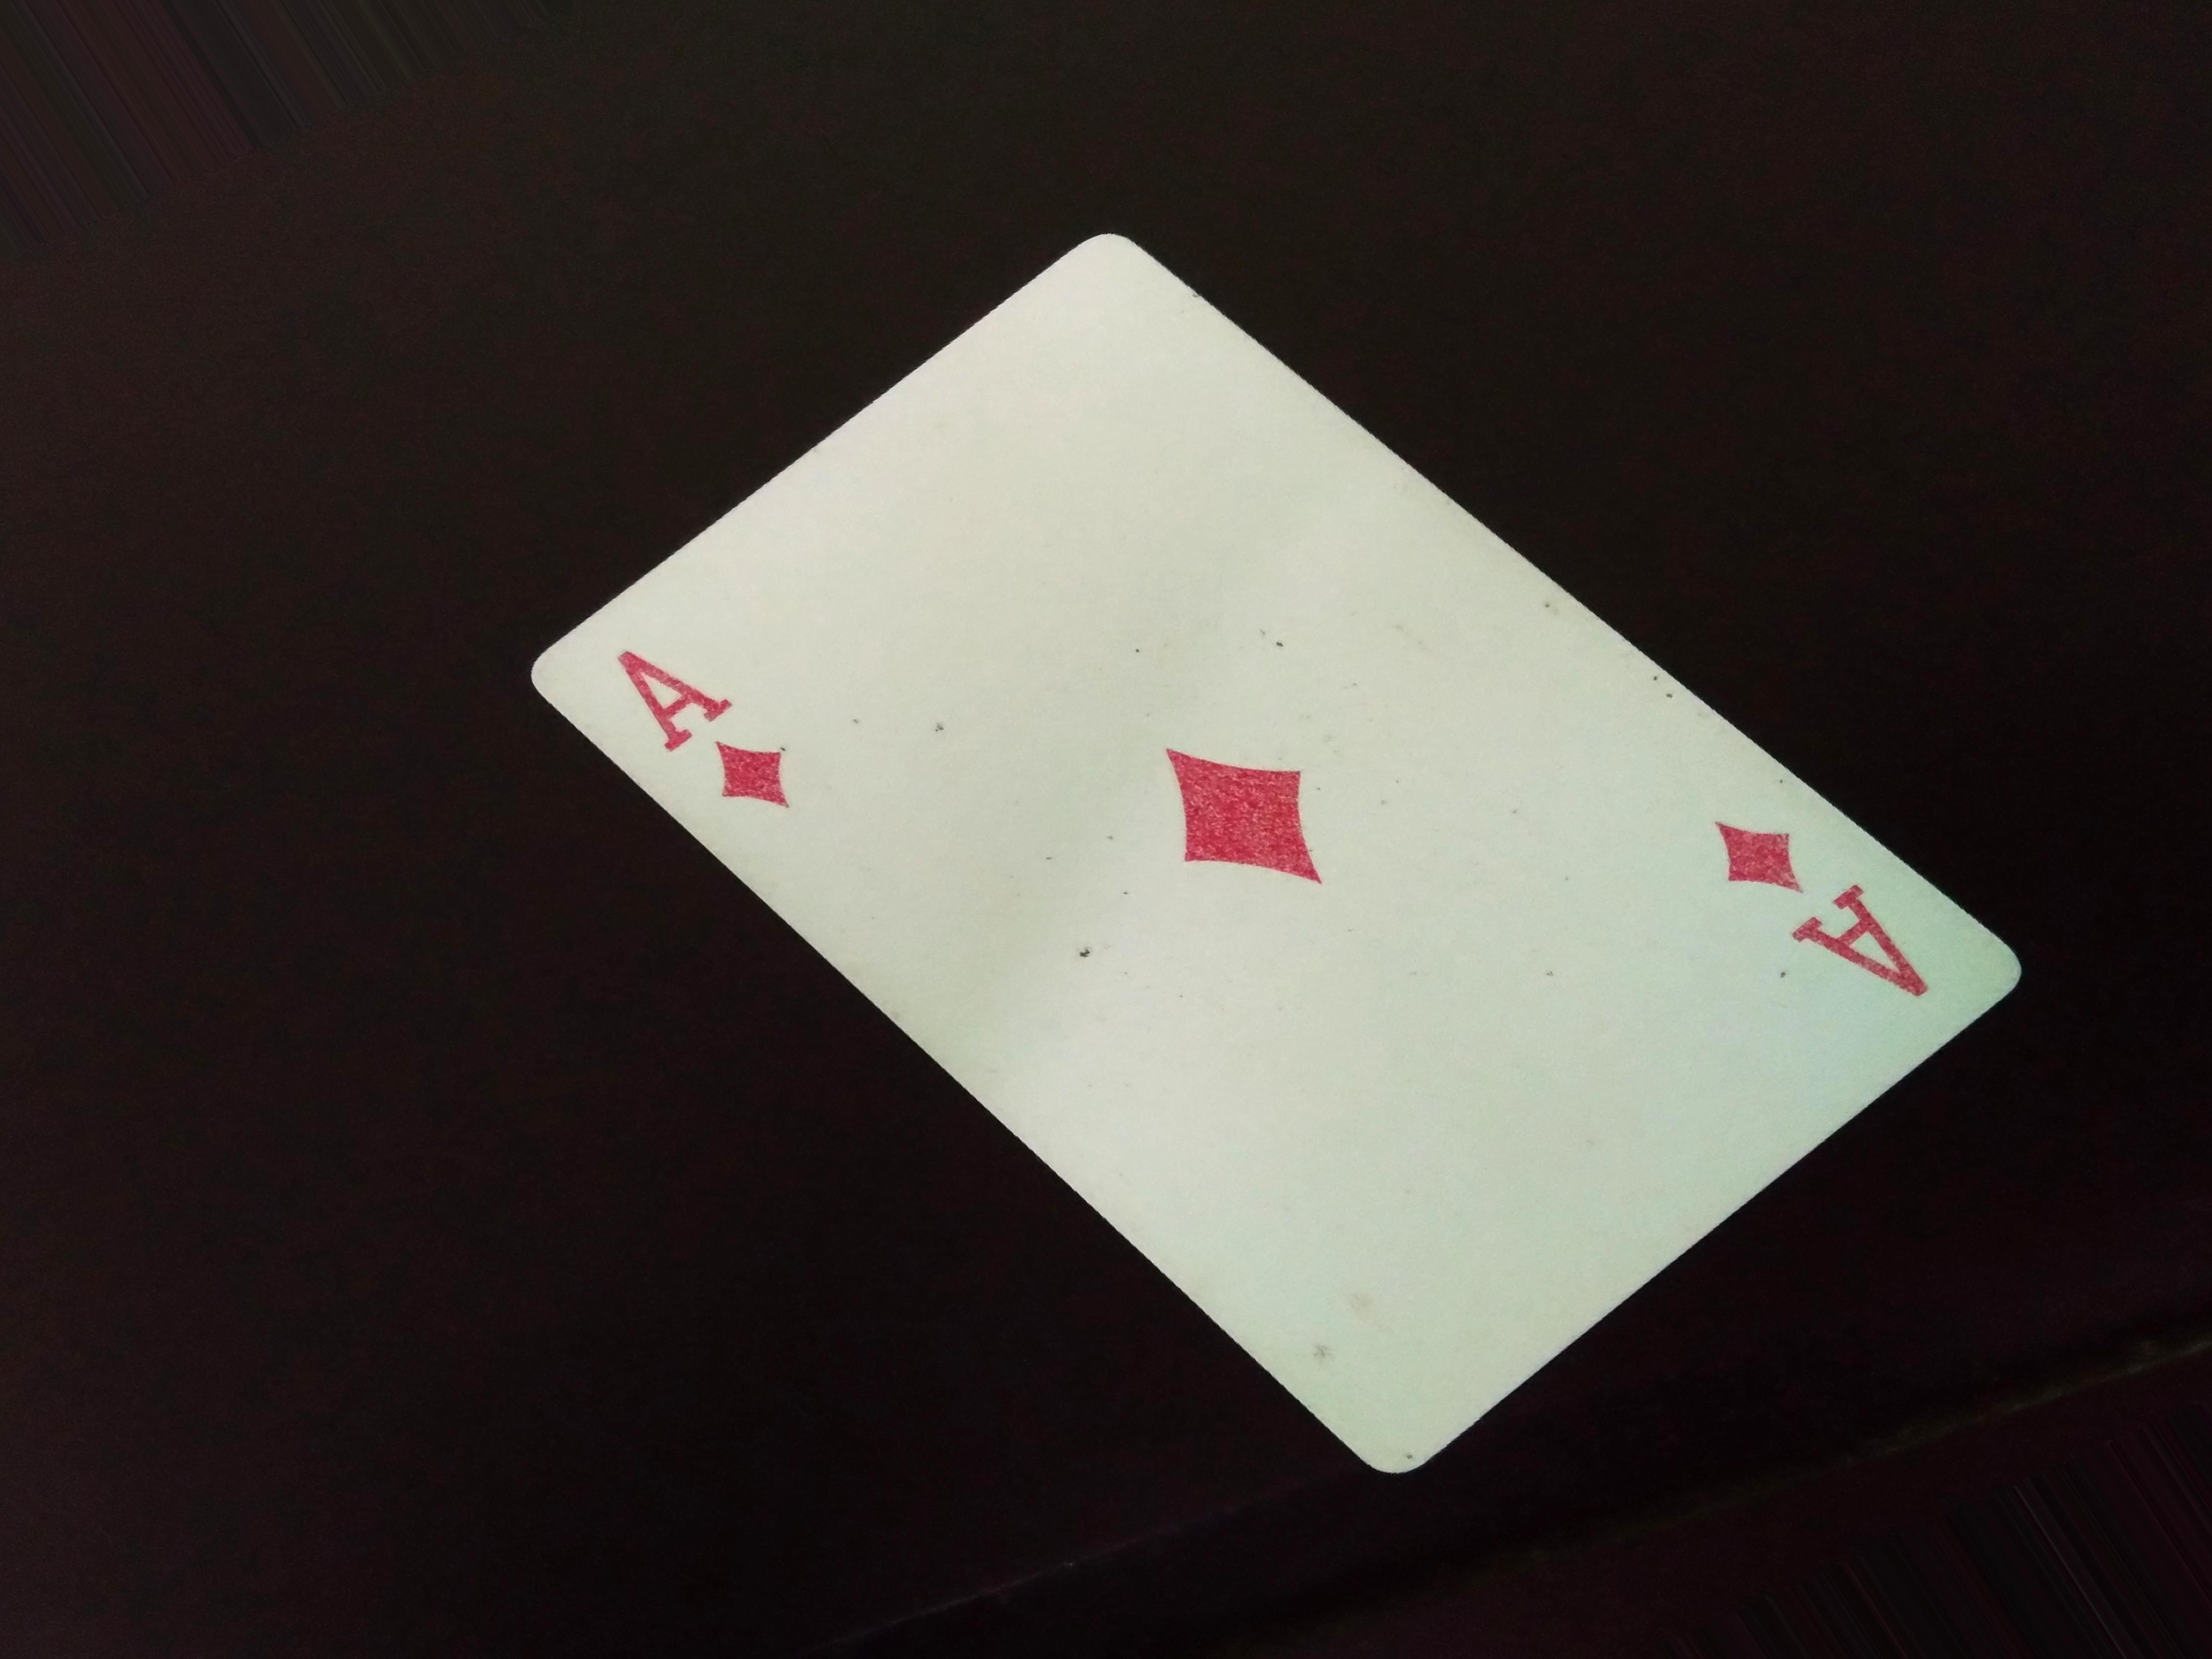AD: (615, 641, 799, 859)
